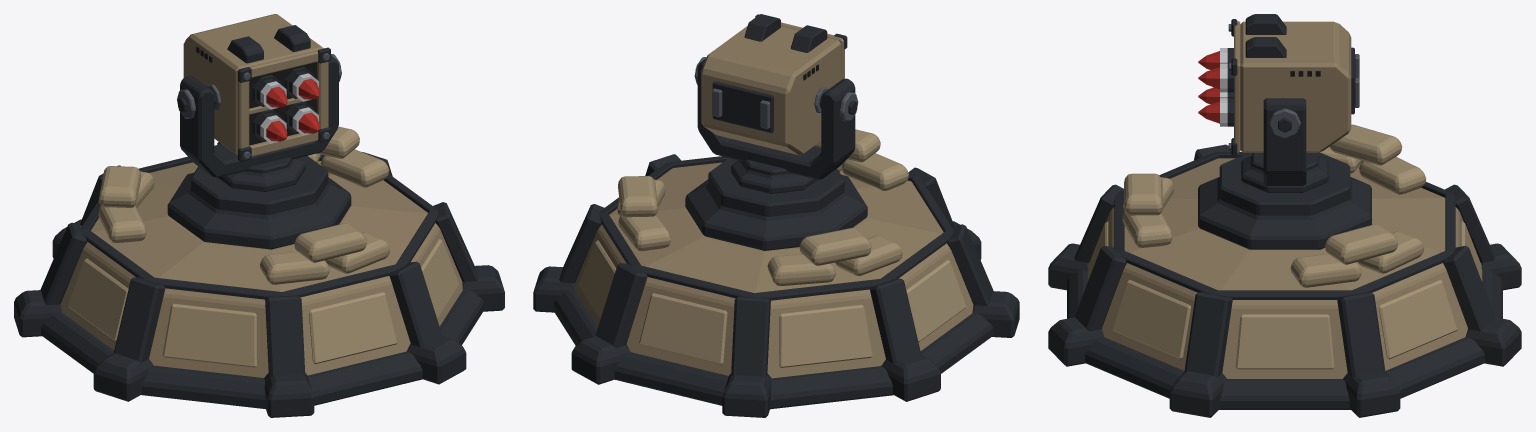
Rendered from rk40-brasa-n1.glb.
The picture shows the model from 3 angles, left to right: view 1: azimuth 30°, elevation 25°; view 2: azimuth 150°, elevation 25°; view 3: azimuth 270°, elevation 25°; orthographic projection. The views are drawn at different scales.
Visible parts, largest first — view 1: casco, gun_pitch, turret_yaw, rocket_01, rocket_03, rocket_04, rocket_02; view 2: casco, gun_pitch, turret_yaw; view 3: casco, gun_pitch, turret_yaw, rocket_04, rocket_02, rocket_01.
Boxes of the visible parts, <box> form: casco: <box>14,126,504,417</box>; gun_pitch: <box>183,14,330,161</box>; turret_yaw: <box>177,54,341,191</box>; rocket_01: <box>256,78,287,109</box>; rocket_03: <box>256,112,287,143</box>; rocket_04: <box>289,104,319,135</box>; rocket_02: <box>289,70,319,101</box>; casco: <box>533,129,1019,417</box>; gun_pitch: <box>701,14,847,155</box>; turret_yaw: <box>694,57,858,193</box>; casco: <box>1048,124,1521,417</box>; gun_pitch: <box>1228,14,1359,155</box>; turret_yaw: <box>1241,98,1328,192</box>; rocket_04: <box>1198,98,1233,126</box>; rocket_02: <box>1198,64,1233,92</box>; rocket_01: <box>1198,48,1233,69</box>.
Bounding box in the file's own units: 1 × 0.675 × 1.
